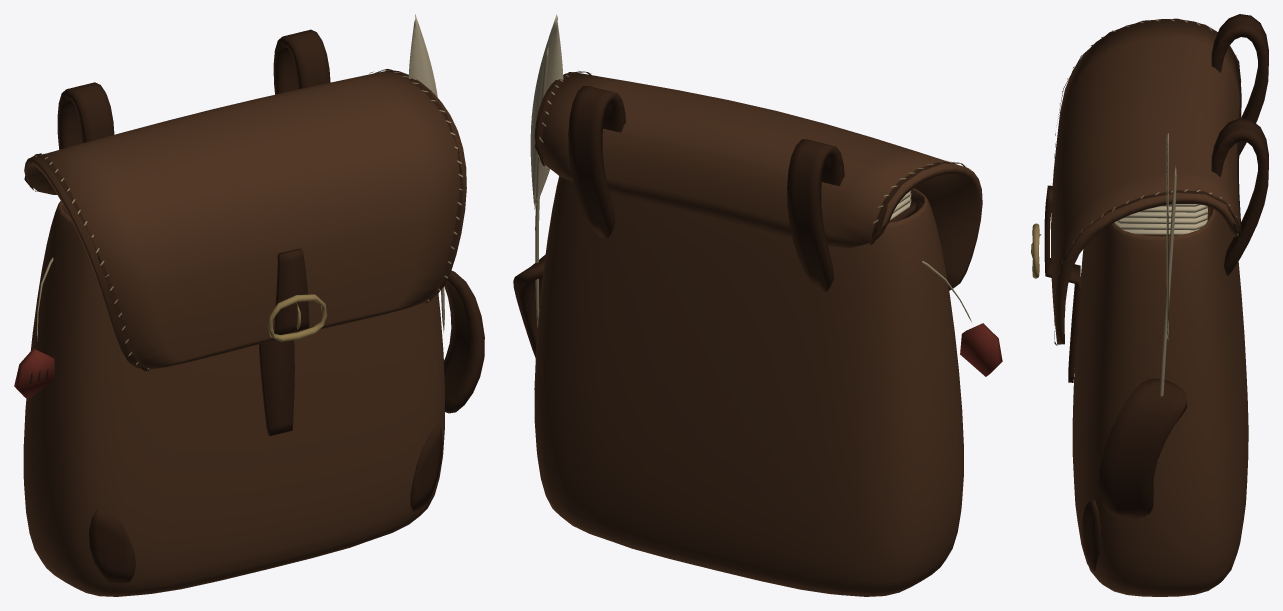
Rendered from frontier_supply_officer_kit_lod0.glb.
3 views of the same model, side by side, from view 1: azimuth 30°, elevation 25°; view 2: azimuth 150°, elevation 25°; view 3: azimuth 270°, elevation 25° (orthographic). The views are drawn at different scales.
Parts seen in each view (by area): view 1: frontier_supply_officer_kit_lod0; view 2: frontier_supply_officer_kit_lod0; view 3: frontier_supply_officer_kit_lod0.
Part boxes in pixels (x1,y1,x2,y2): frontier_supply_officer_kit_lod0: (14, 14, 484, 596); frontier_supply_officer_kit_lod0: (513, 14, 1002, 596); frontier_supply_officer_kit_lod0: (1031, 14, 1268, 596).
Size of the model in its own units: 0.4047 by 0.4101 by 0.1833.
1 material, 1 textured.
